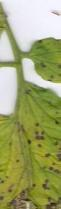Tomato Septoria leaf spot: (0, 86, 61, 209), (26, 32, 61, 95)
